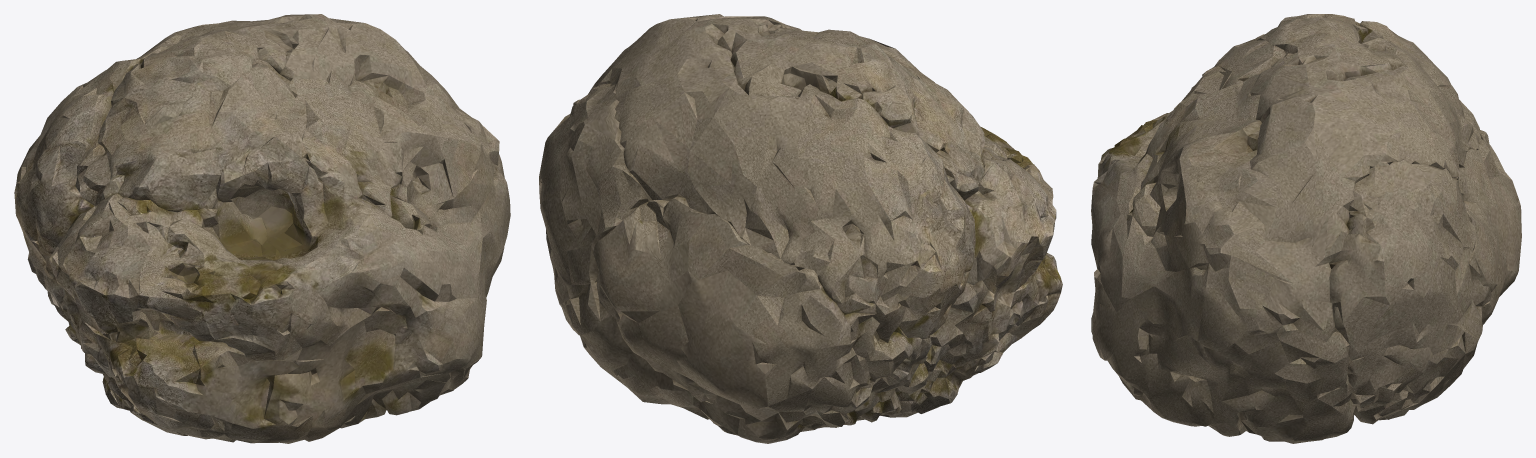
File: risco_mole_alto.glb
3 views of the same model, side by side, from view 1: azimuth 30°, elevation 25°; view 2: azimuth 150°, elevation 25°; view 3: azimuth 270°, elevation 25° (orthographic). The views are drawn at different scales.
Visible parts, largest first — view 1: alto; view 2: alto; view 3: alto.
Boxes of the visible parts, x1,y1,x2,y2 form: alto: (14,14,510,443); alto: (539,14,1062,443); alto: (1091,14,1521,443).
Bounding box in the file's own units: 3.93 × 3 × 3.47.
1 material, 1 textured.
